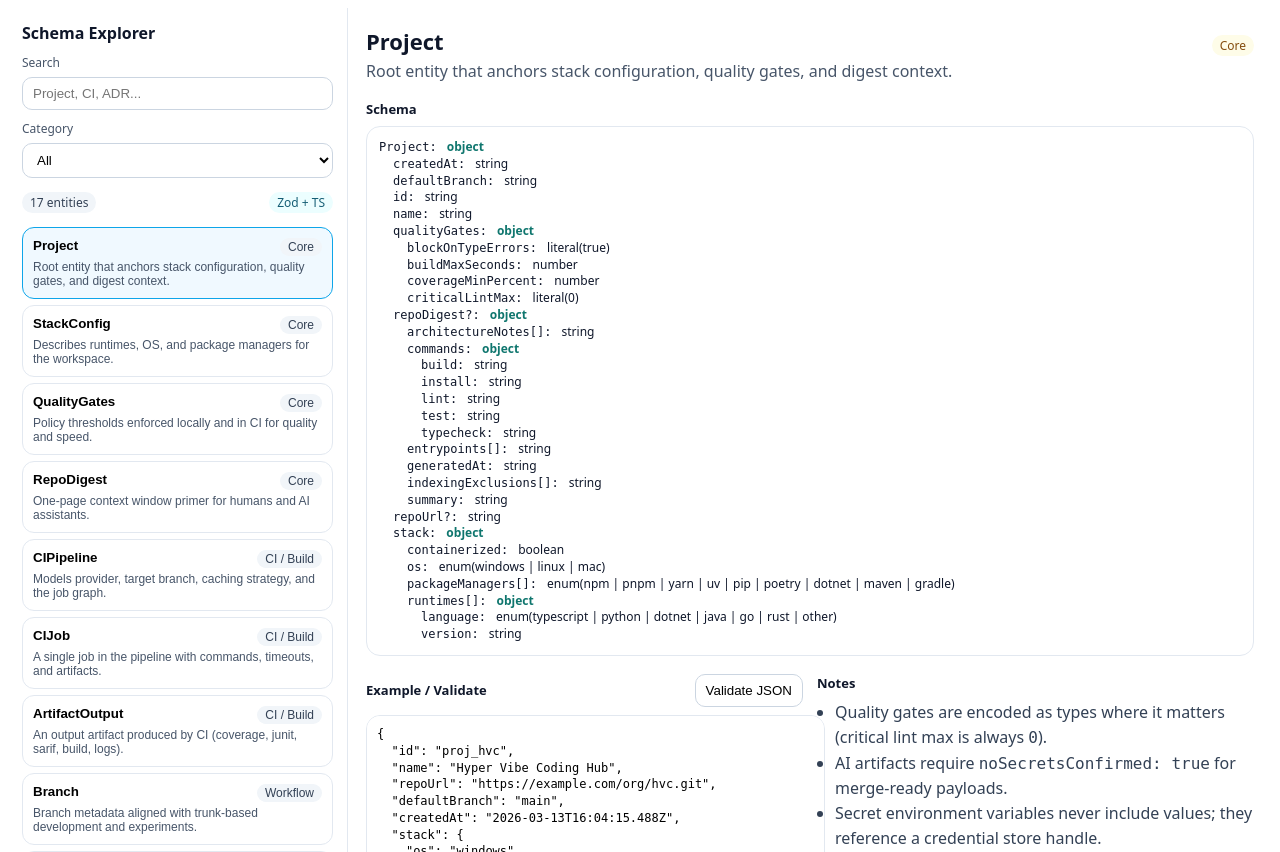
it: App › supports search and entity selection
Type "ADR" into the field labelled "Search" at (178, 94), box left=22, top=77, right=333, bottom=110
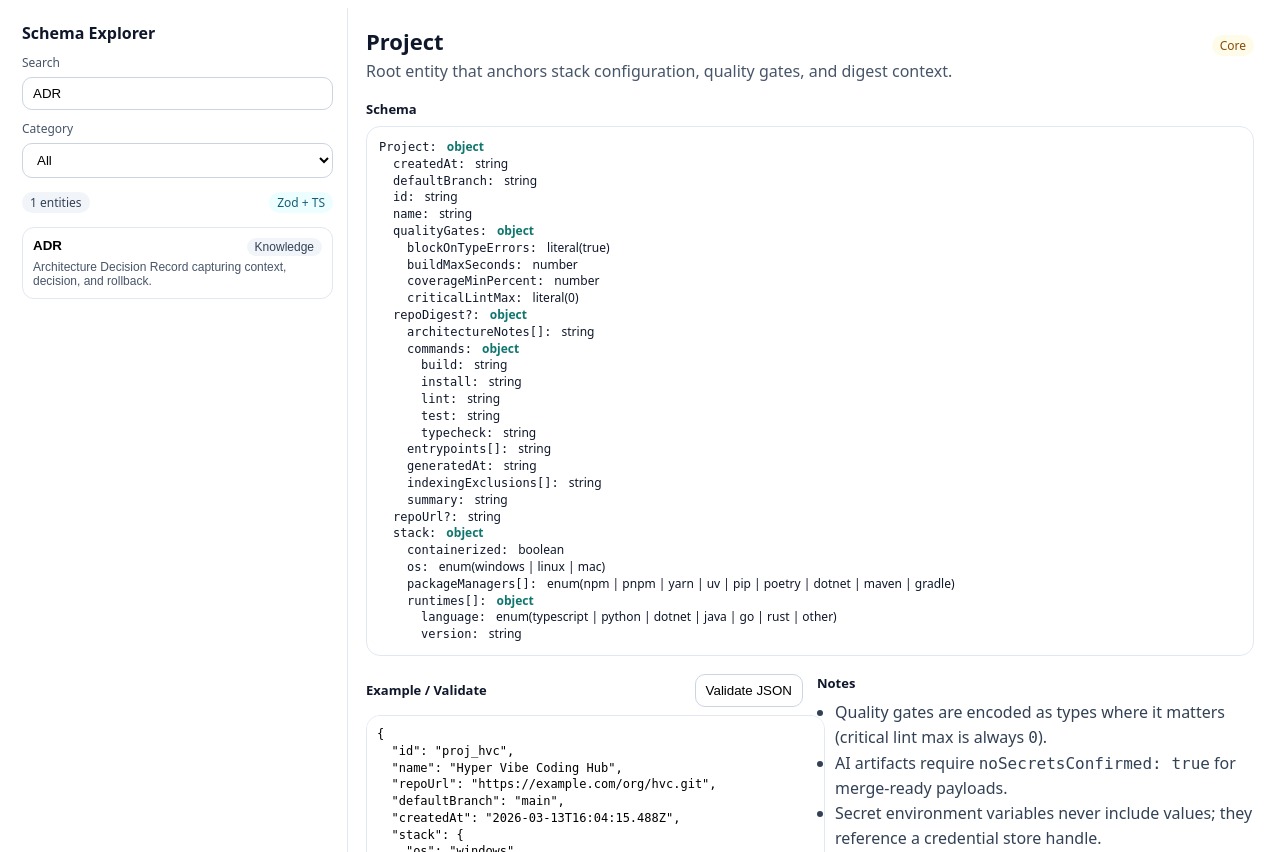
Result: the text "ADR" is shown at left=33, top=238, right=62, bottom=256
Result: the text "1 entities" is shown at left=22, top=192, right=90, bottom=213
Clear the field labelled "Search" at (178, 94), box left=22, top=77, right=333, bottom=110
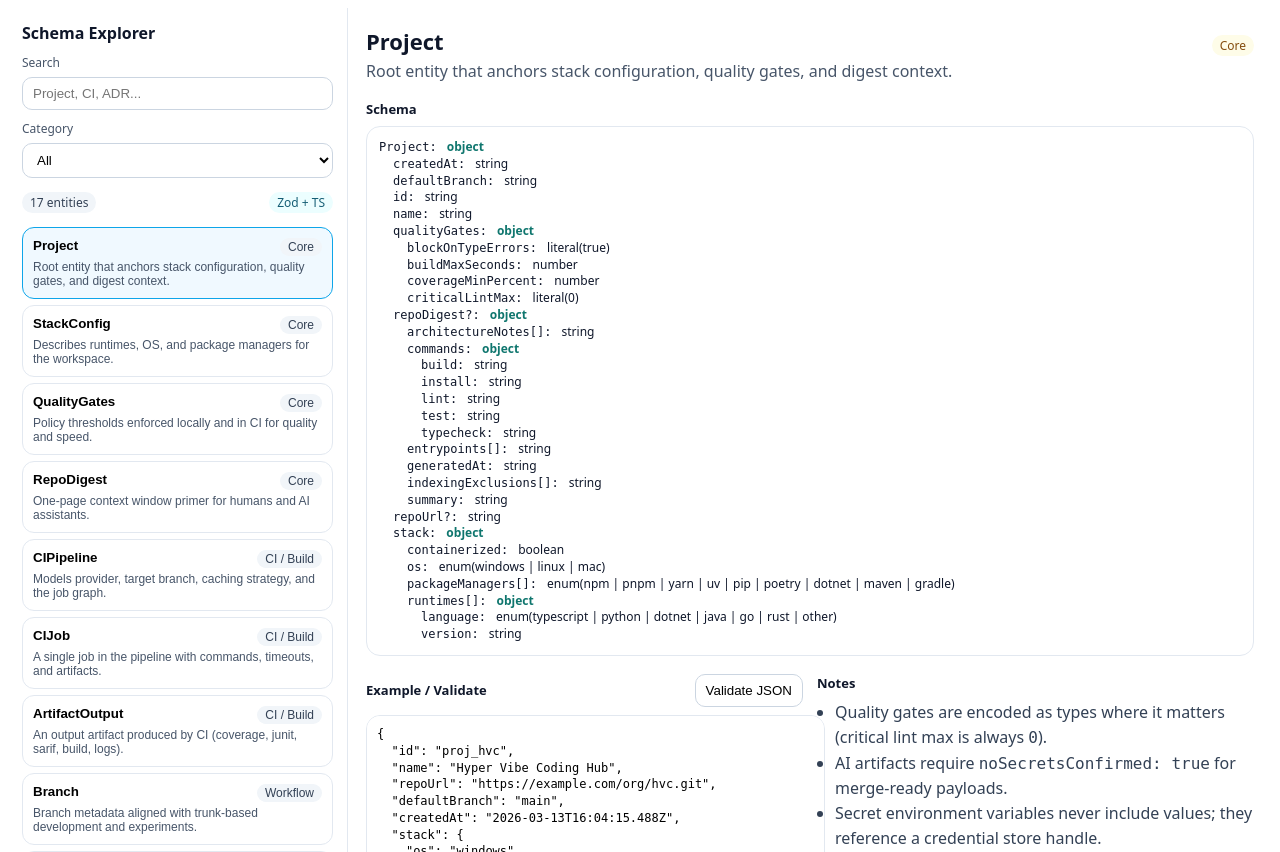
Click the text "StackConfig" at (72, 325), box left=33, top=316, right=111, bottom=334
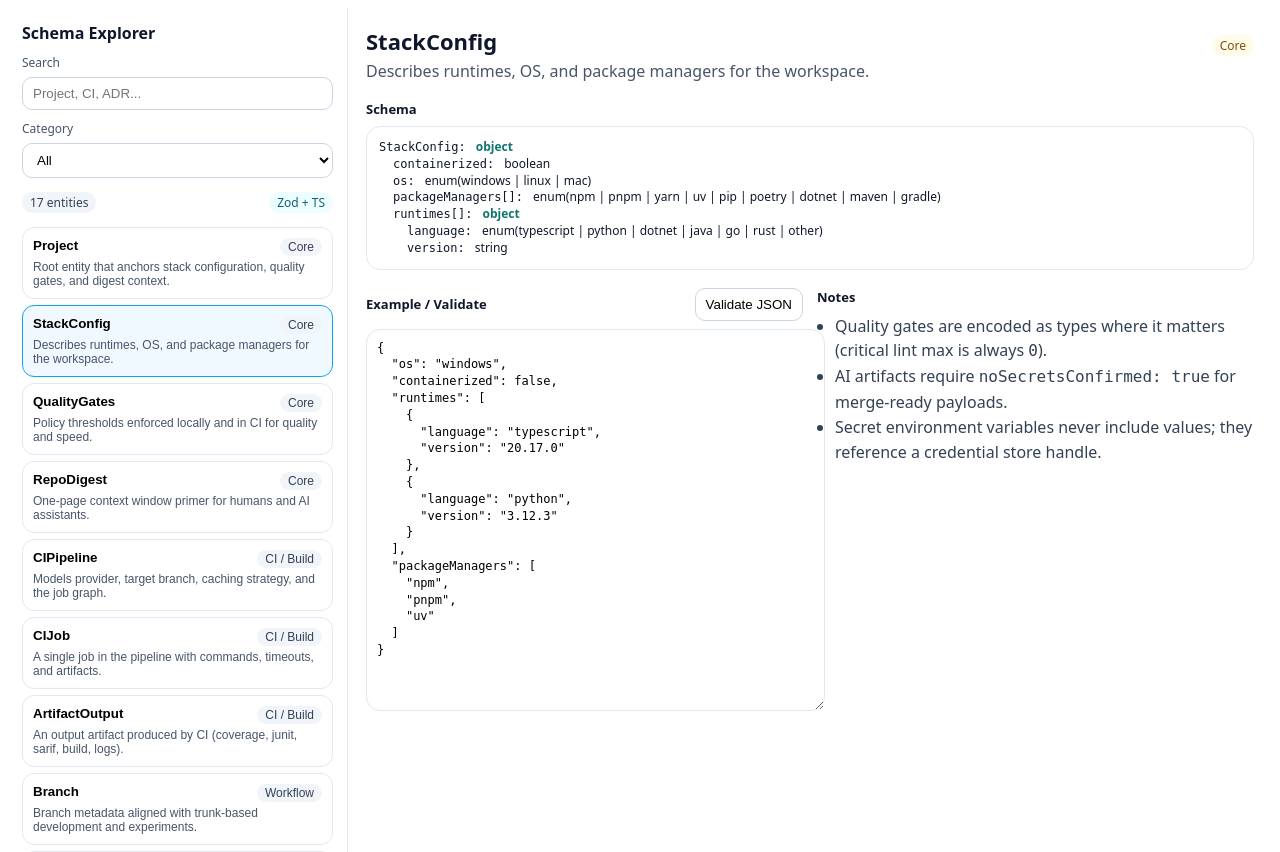
Result: the text named "Selected Entity" reads "StackConfig" at left=366, top=26, right=497, bottom=56
